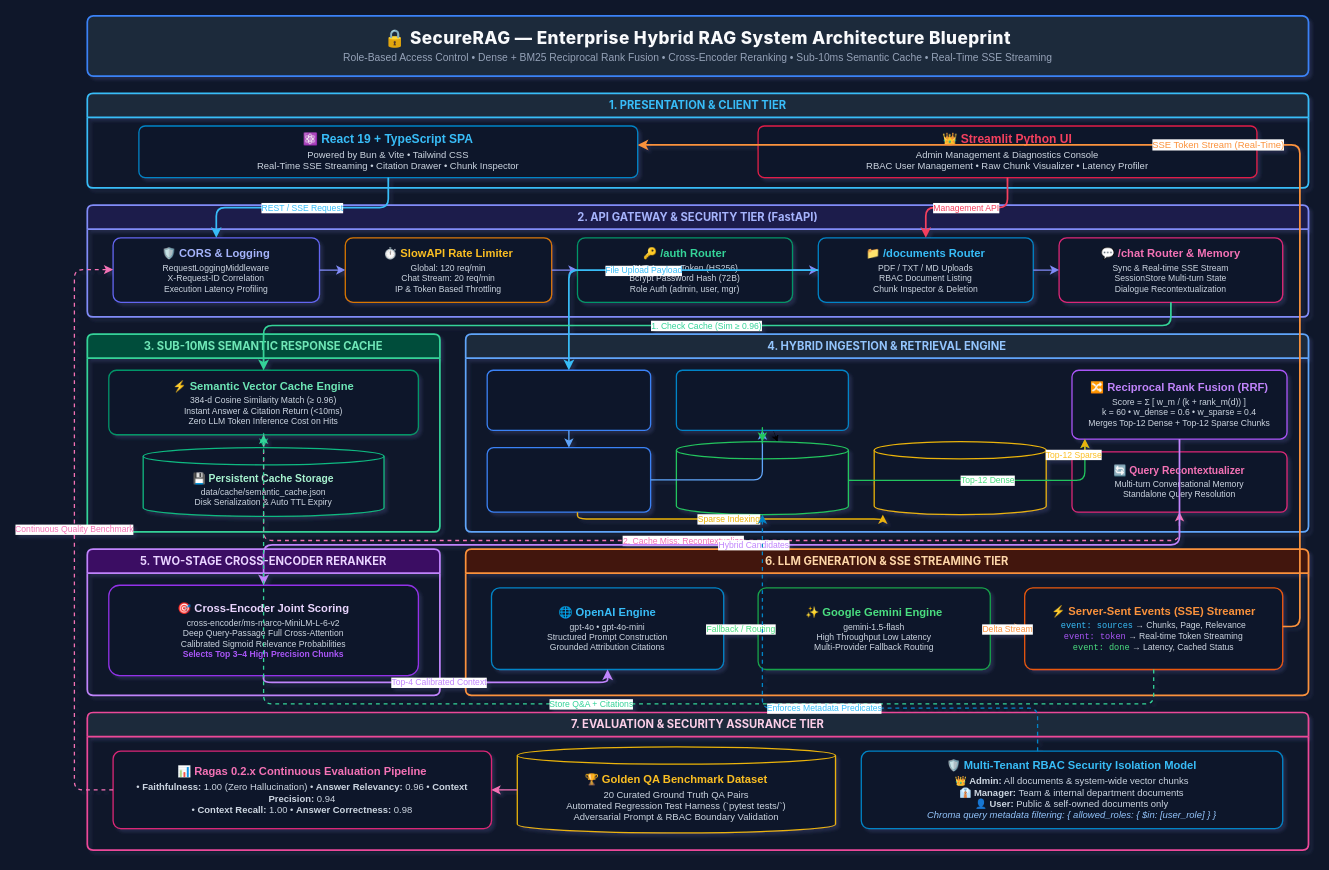
The diagram is 1329 pixels wide and 870 high, and some of its shapes have lost their labels. The shapes that lost their labels are listed below. From the top down, each one's centre as x and y in pixels, then its label:
At (568,400): "📄 Ingestion Pipeline pypdf Extraction (1-based) Heading-aware Parsing".
At (762,400): "🧠 Vector Embedding all-MiniLM-L6-v2 384-d Dense Embeddings".
At (568,479): "✂️ Recursive Splitter chunk_size: 900 chars chunk_overlap: 150 chars".
At (762,478): "🗄️ Chroma Vector Store 384-d Cosine Semantic Index RBAC metadata (owner, roles)".
At (959,478): "🔍 Okapi BM25 Index Sparse Lexical Token Search Robertson-Spärck Jones IDF".
